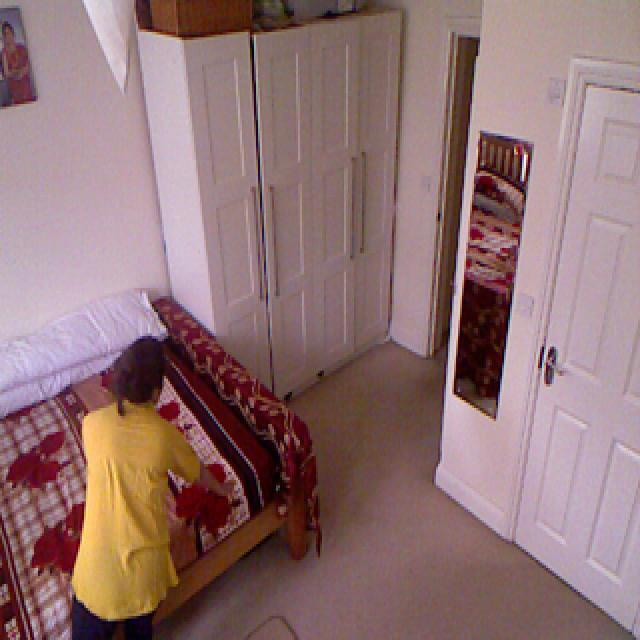standing: (70, 334, 233, 640)
